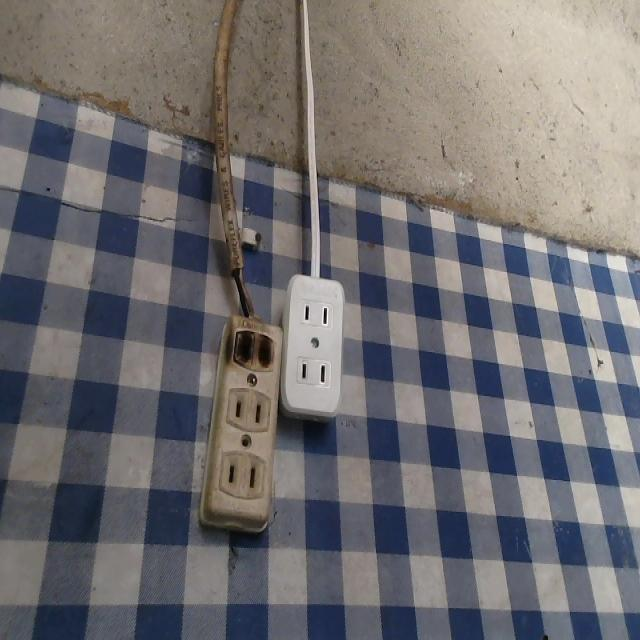-: (214, 319, 279, 373)
